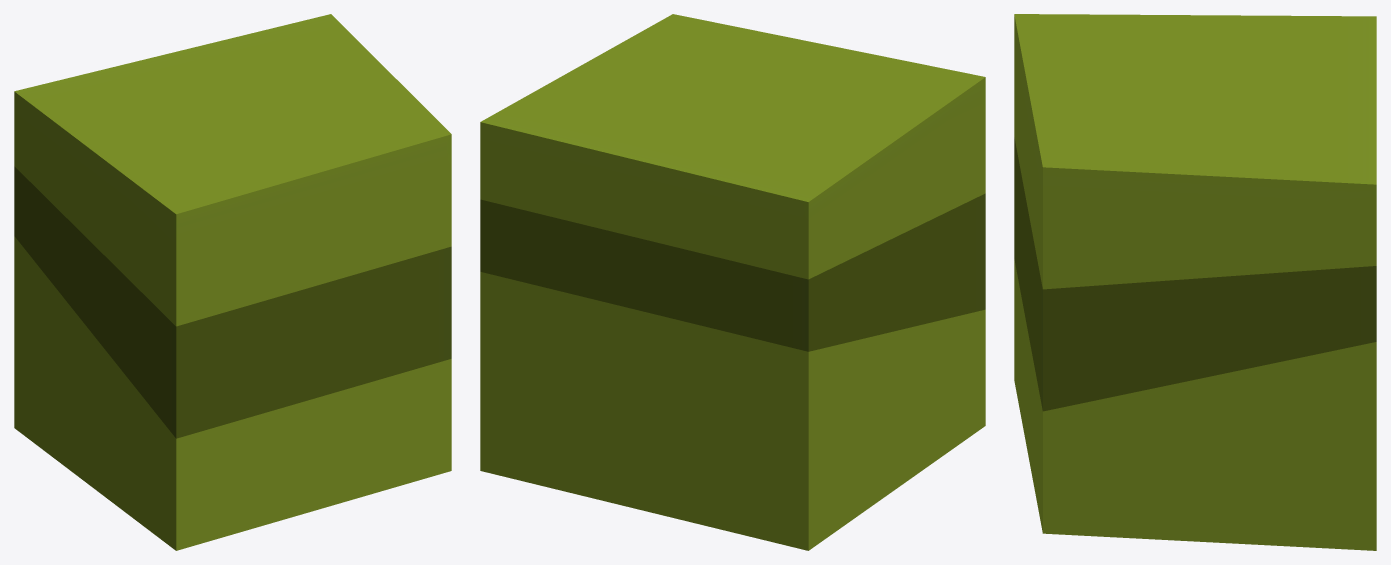
File: bush.FBX
The picture shows the model from 3 angles, left to right: view 1: azimuth 30°, elevation 25°; view 2: azimuth 150°, elevation 25°; view 3: azimuth 270°, elevation 25°; orthographic projection. The views are drawn at different scales.
Visible parts, largest first — view 1: bush; view 2: bush; view 3: bush.
Part boxes in pixels (x1=…): bush: x1=14, y1=14, x2=451, y2=550; bush: x1=480, y1=14, x2=985, y2=550; bush: x1=1014, y1=14, x2=1376, y2=550.
Bounding box in the file's own units: 28.36 × 25.46 × 28.39.
